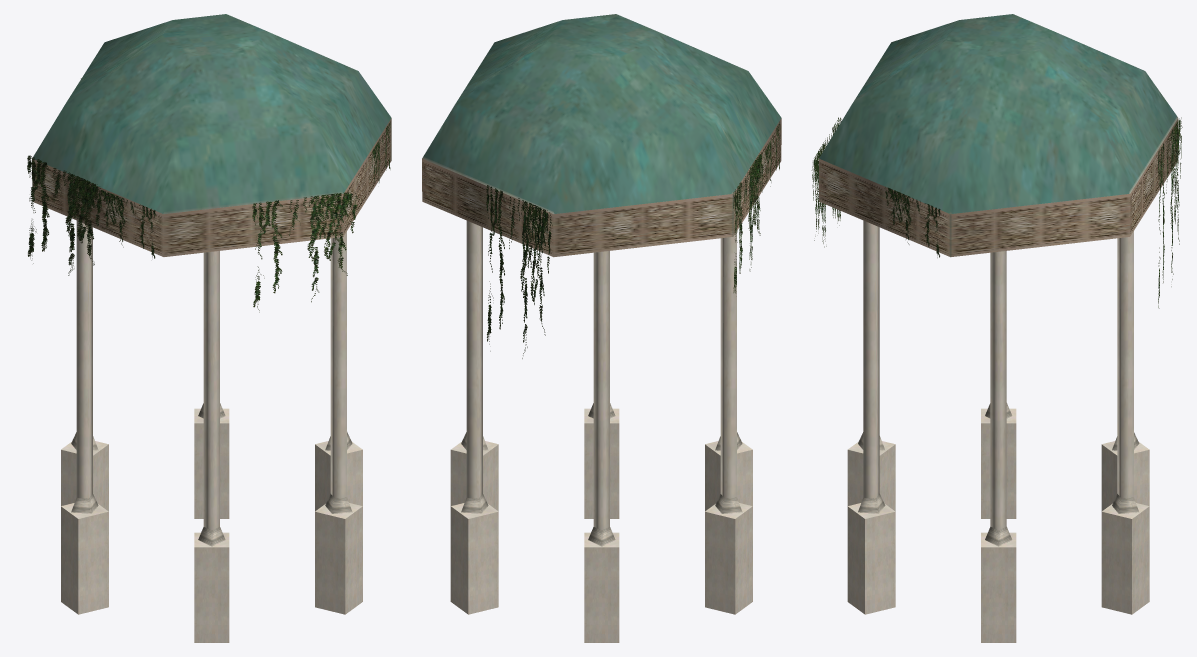
Rendered from thm_nboo_imprv_garden_gazebo_sml_s01_l2.fbx.
The picture shows the model from 3 angles, left to right: view 1: azimuth 30°, elevation 25°; view 2: azimuth 150°, elevation 25°; view 3: azimuth 270°, elevation 25°; orthographic projection.
Visible parts, largest first — view 1: mesh_node; view 2: mesh_node; view 3: mesh_node.
Boxes of the visible parts, x1,y1,x2,y2 form: mesh_node: (27, 14, 391, 642); mesh_node: (422, 14, 781, 642); mesh_node: (811, 14, 1182, 642).
Size of the model in its own units: 7.7 by 12.32 by 7.72.
